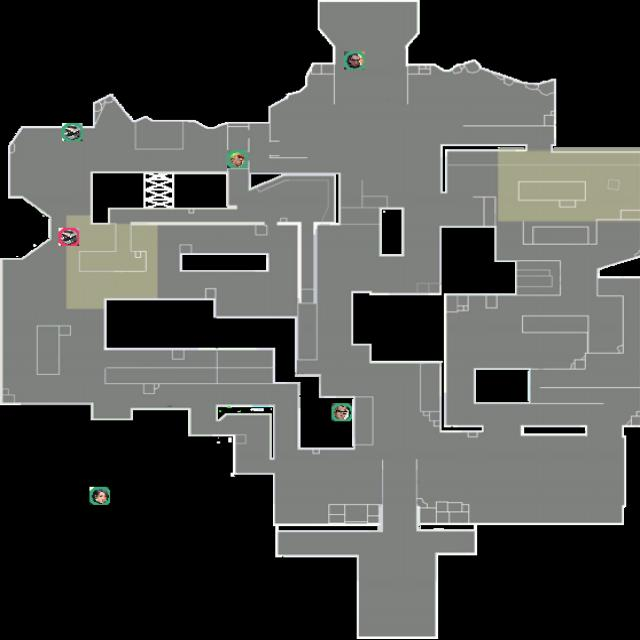atk_cypher: (59, 228, 79, 246)
def_chamber: (332, 403, 352, 421)
def_cypher: (62, 123, 83, 141)
def_gekko: (227, 150, 248, 168)
def_reyna: (344, 51, 365, 70)
def_sage: (90, 487, 110, 505)
